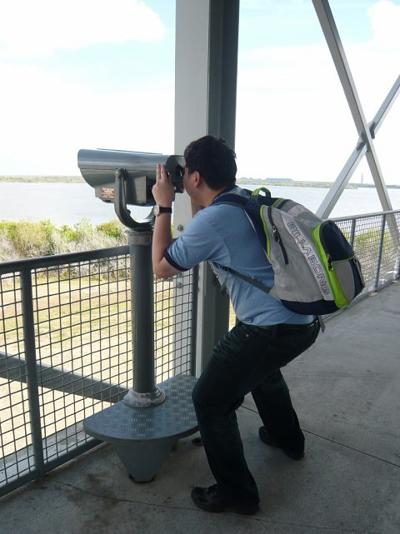person: (153, 137, 323, 516)
